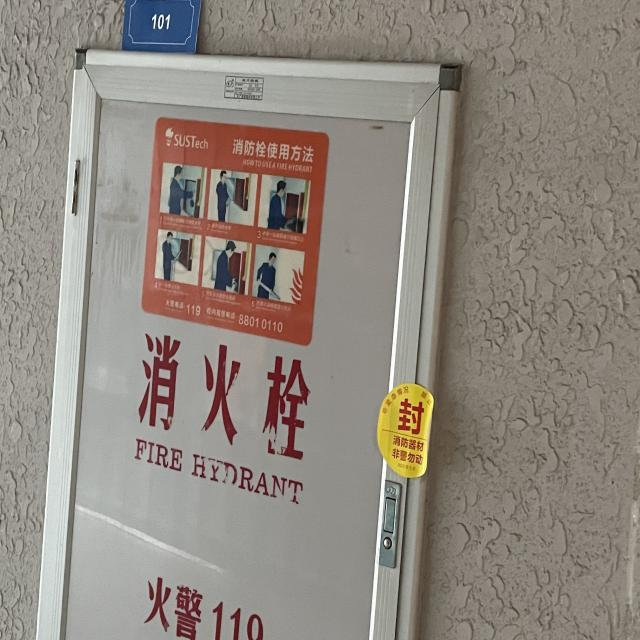Card: (110, 0, 212, 62)
